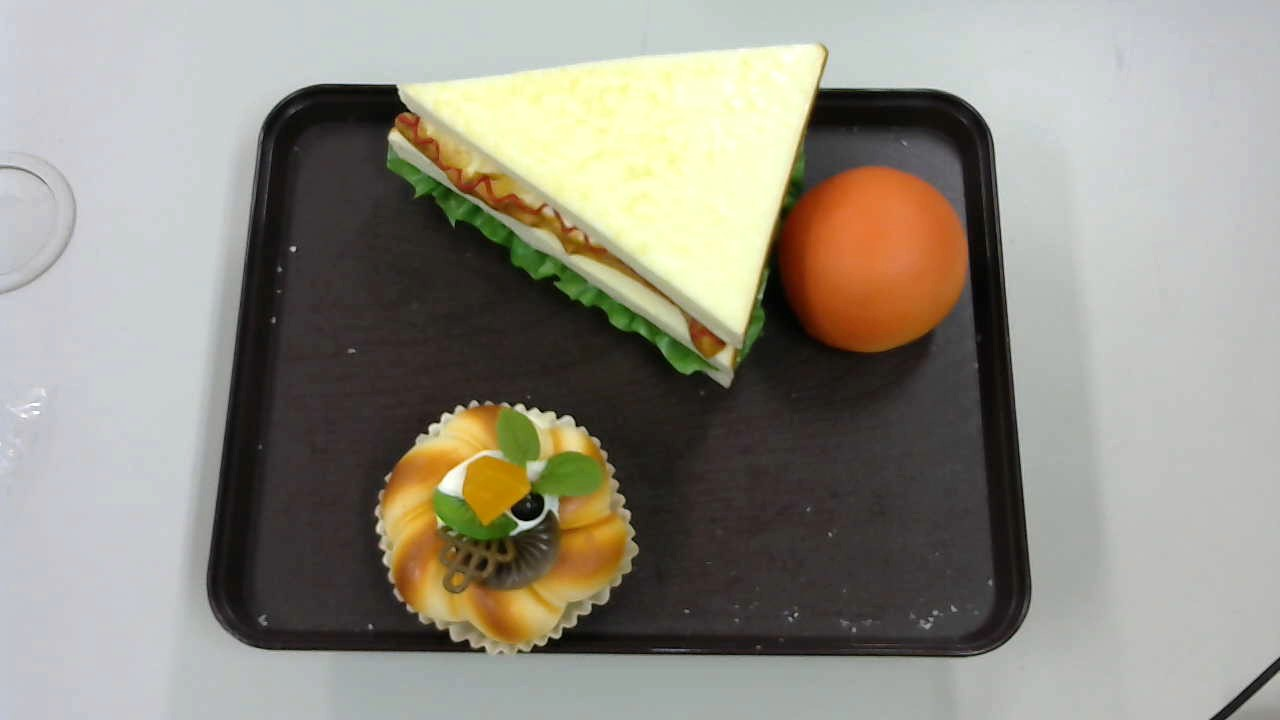bun: (776, 162, 969, 355)
fruit tart: (375, 400, 640, 656)
sandwich: (384, 43, 830, 389)
